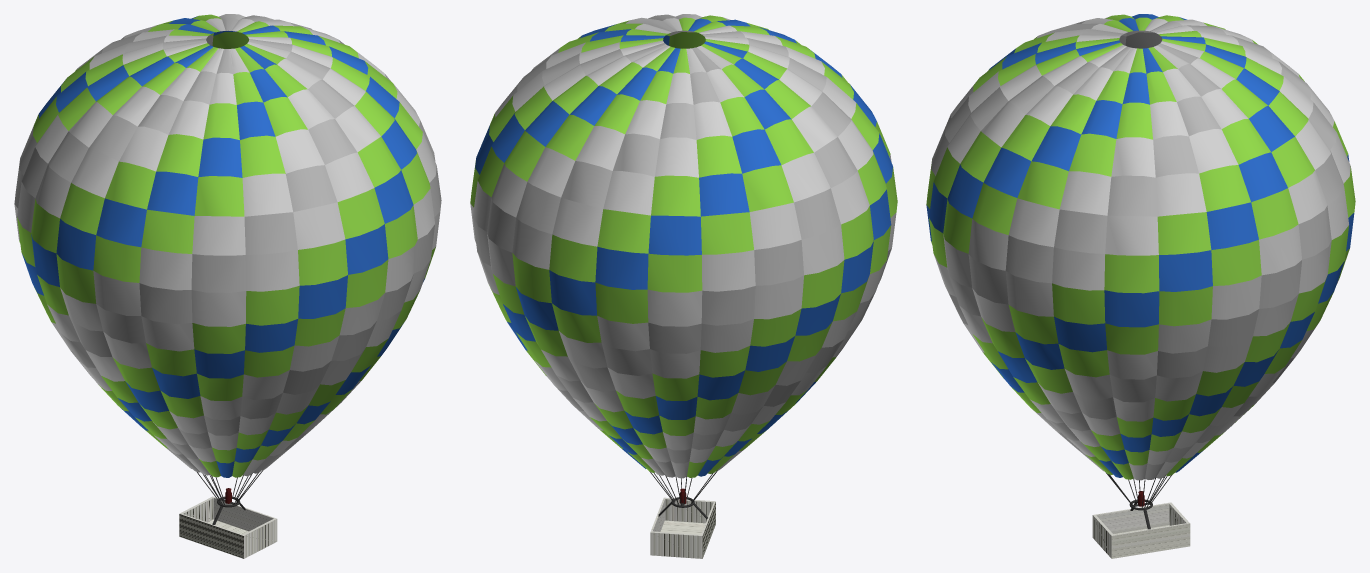
File: balloon.obj
The picture shows the model from 3 angles, left to right: view 1: azimuth 30°, elevation 25°; view 2: azimuth 150°, elevation 25°; view 3: azimuth 270°, elevation 25°; orthographic projection.
Visible parts, largest first — view 1: red, black, yellow, offwhit1, white, white2, Box; view 2: white2, offwhit1, black, white, red, yellow, Box, offwhit0; view 3: white, yellow, white2, red, black, offwhit1, Box.
Boxes of the visible parts, x1,y1,x2,y2 form: red: (33,20,430,477); black: (22,16,424,477); yellow: (19,18,436,476); offwhit1: (17,14,435,477); white: (14,15,441,473); white2: (14,14,440,475); Box: (179,496,277,558); white2: (478,16,880,478); offwhit1: (489,20,886,477); black: (475,18,892,476); white: (473,14,891,477); red: (470,15,897,473); yellow: (470,14,896,475); Box: (650,497,715,558); offwhit0: (642,26,726,61); white: (945,20,1344,479); yellow: (934,16,1338,480); white2: (931,18,1350,478); red: (929,14,1349,479); black: (926,14,1354,477); offwhit1: (926,15,1355,476); Box: (1092,502,1190,558).
Bounding box in the file's own units: 2.63 × 3.39 × 2.63.
